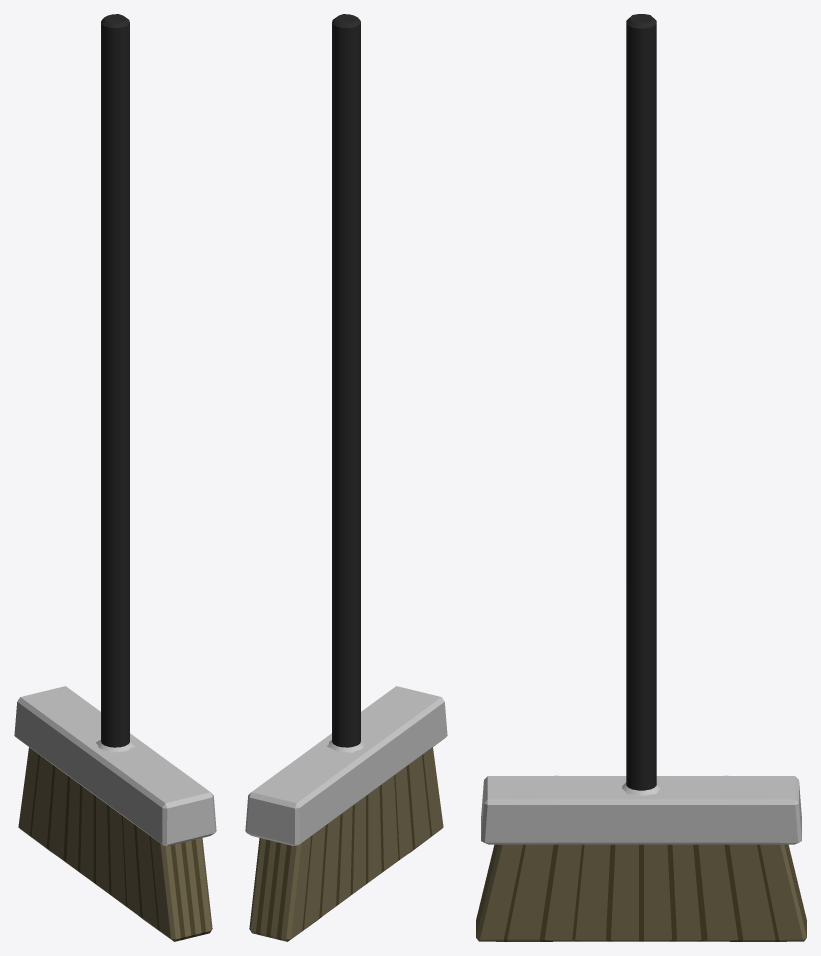
The model's file is Broom.fbx.
3 views of the same model, side by side, from view 1: azimuth 30°, elevation 25°; view 2: azimuth 150°, elevation 25°; view 3: azimuth 270°, elevation 25° (orthographic). The views are drawn at different scales.
Parts seen in each view (by area): view 1: pCube1; view 2: pCube1; view 3: pCube1.
Boxes of the visible parts, x1,y1,x2,y2 form: pCube1: (14, 14, 216, 941); pCube1: (245, 14, 447, 941); pCube1: (476, 14, 806, 941).
Size of the model in its own units: 0.6523 by 9.92 by 3.25.
